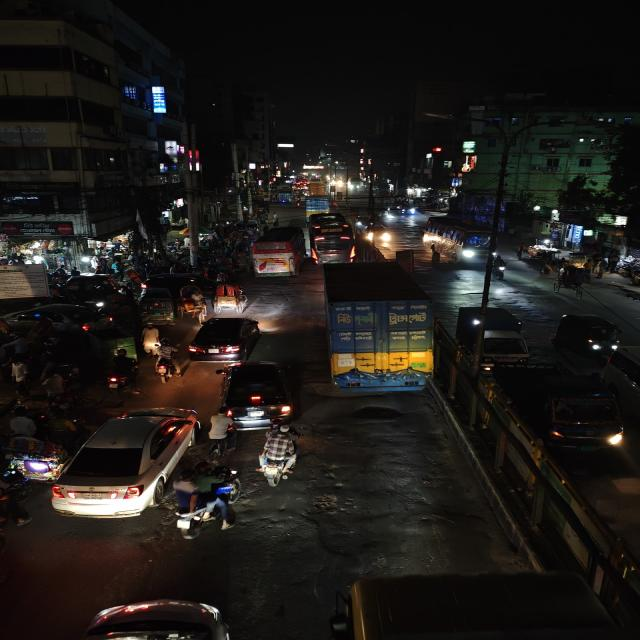bicycle: (152, 340, 181, 384)
bus: (423, 216, 497, 264), (249, 225, 305, 281), (307, 212, 358, 264)
car: (49, 404, 205, 522), (212, 358, 301, 429), (185, 314, 267, 363), (0, 300, 116, 334)
cng: (550, 311, 624, 357), (84, 327, 136, 359), (138, 288, 178, 324)
motorcycle: (164, 462, 243, 540), (253, 424, 306, 490), (98, 349, 143, 398), (0, 469, 33, 531), (153, 343, 181, 383), (484, 253, 509, 282)
pedestrian: (7, 360, 35, 404), (40, 371, 72, 408), (139, 323, 164, 357)
pickup_van: (488, 363, 626, 451)
rickshaw: (4, 414, 77, 480), (550, 265, 588, 300), (211, 281, 248, 315), (177, 284, 208, 321)
truck: (319, 263, 436, 395), (452, 304, 534, 374), (303, 194, 335, 213)
